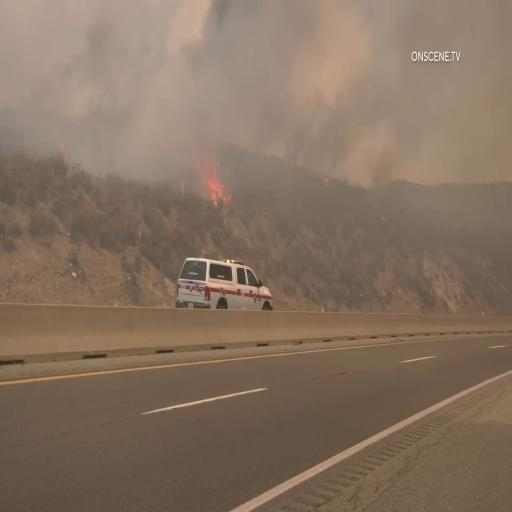fire: (195, 162, 235, 210)
